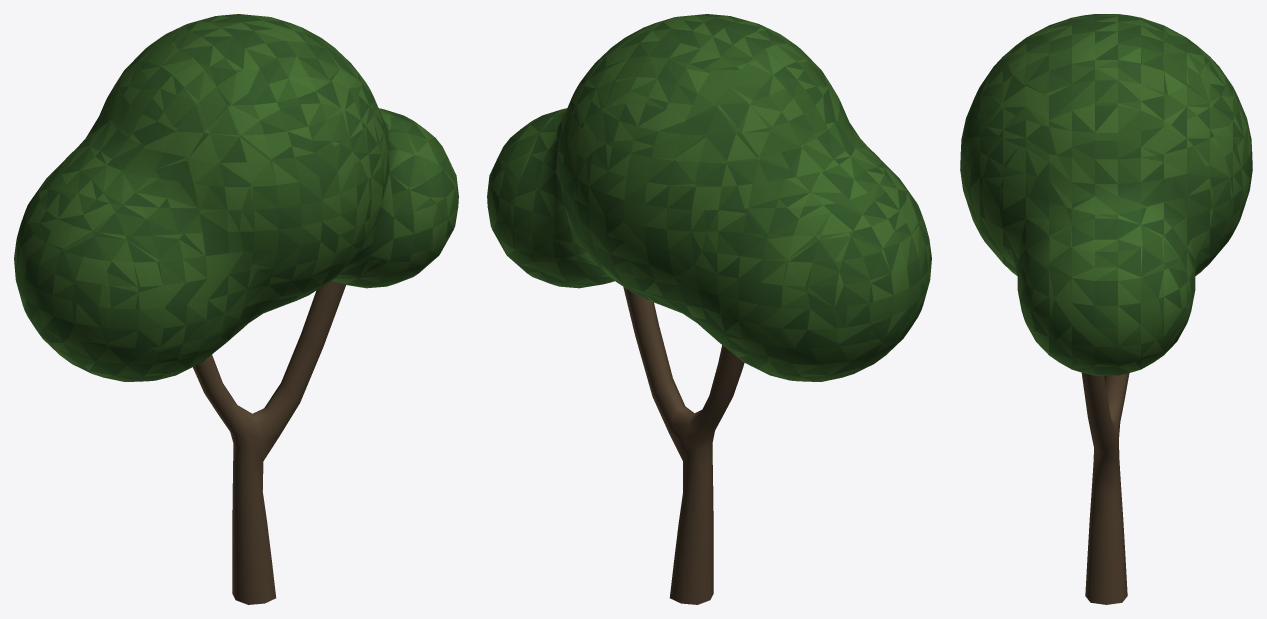
The model's file is pokokbesar.fbx.
3 views of the same model, side by side, from view 1: azimuth 30°, elevation 25°; view 2: azimuth 150°, elevation 25°; view 3: azimuth 270°, elevation 25° (orthographic).
Visible parts, largest first — view 1: pokokbesar; view 2: pokokbesar; view 3: pokokbesar.
Part boxes in pixels (bbox=[...]): pokokbesar: bbox=[14, 14, 458, 604]; pokokbesar: bbox=[487, 14, 931, 604]; pokokbesar: bbox=[960, 14, 1252, 604].
Bounding box in the file's own units: 8.4 × 11 × 5.2.
